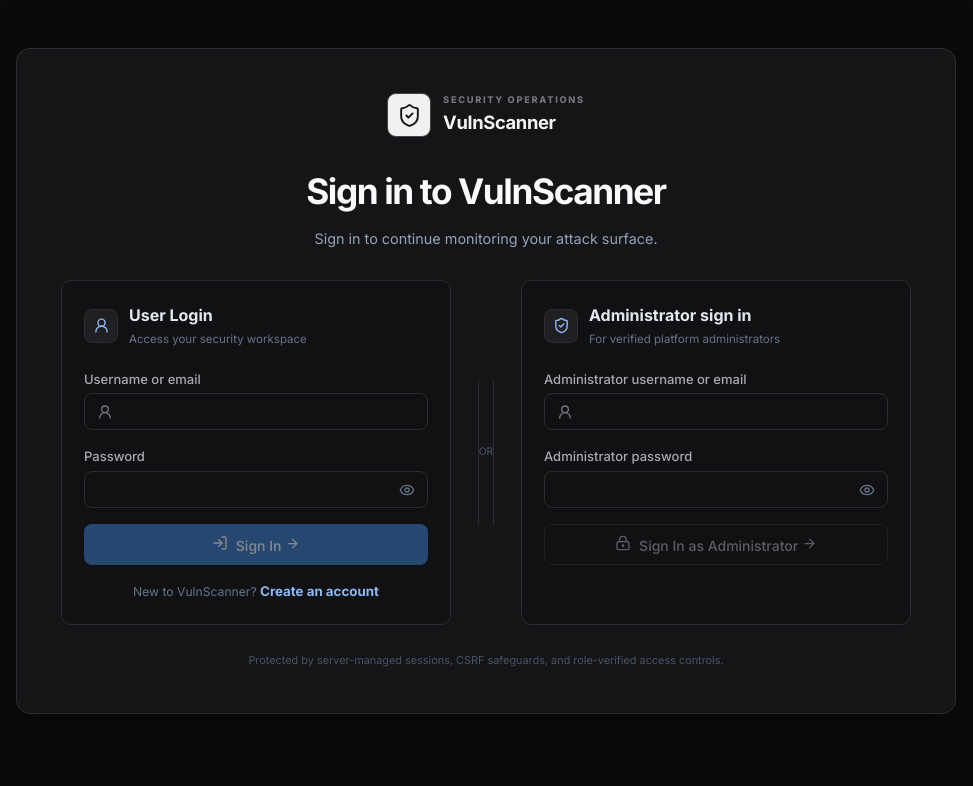
persistent account authentication UI › explains that credentials were not validated when only the login request loses connectivity
In the field labelled "Username or email": [276, 412] box [125,394,427,429], type "alice"
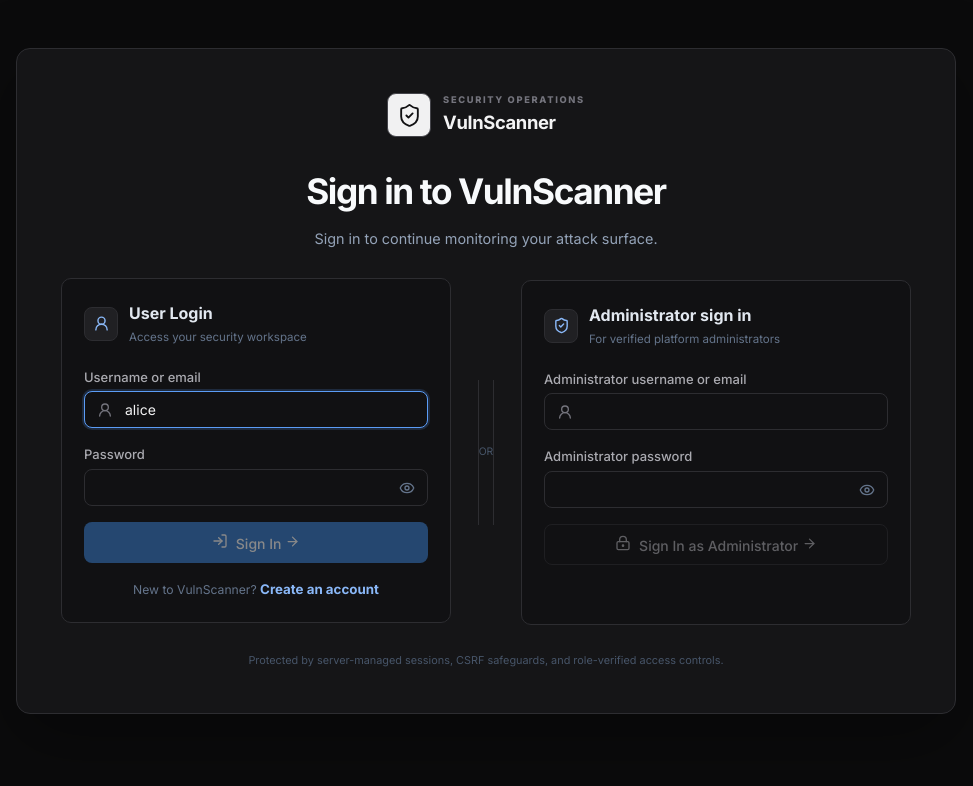
In the password field labelled "Password": [236, 488] box [85,470,387,505], type "StrongPassword!42"
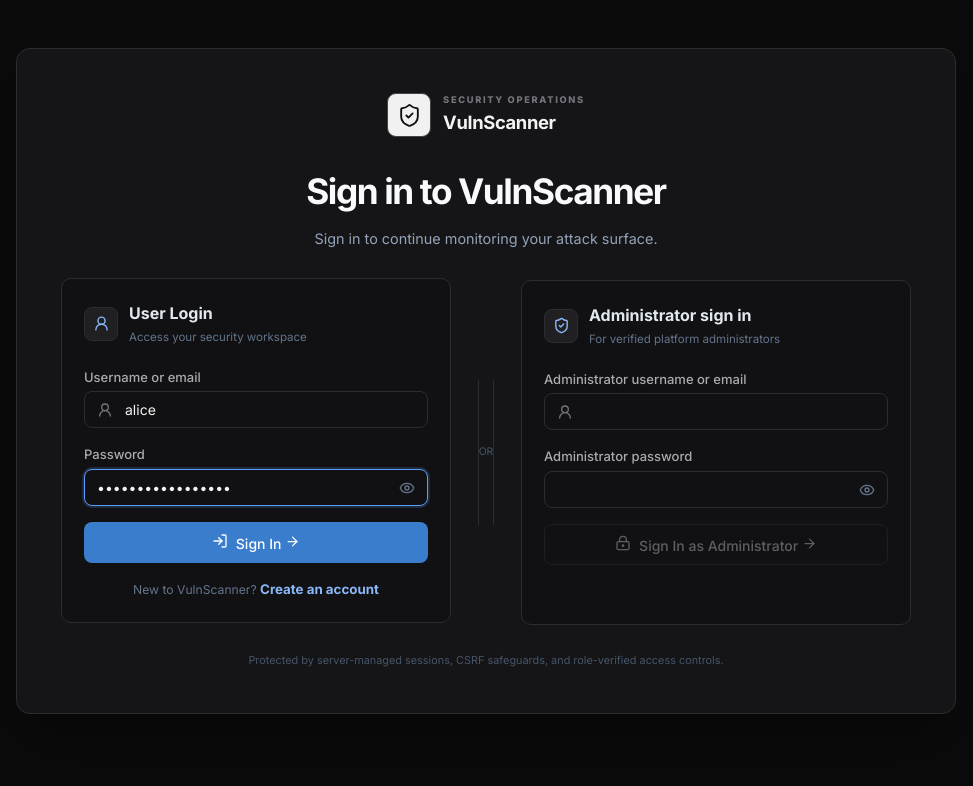
Click the button "Sign In": [256, 543] box [84,522,428,563]
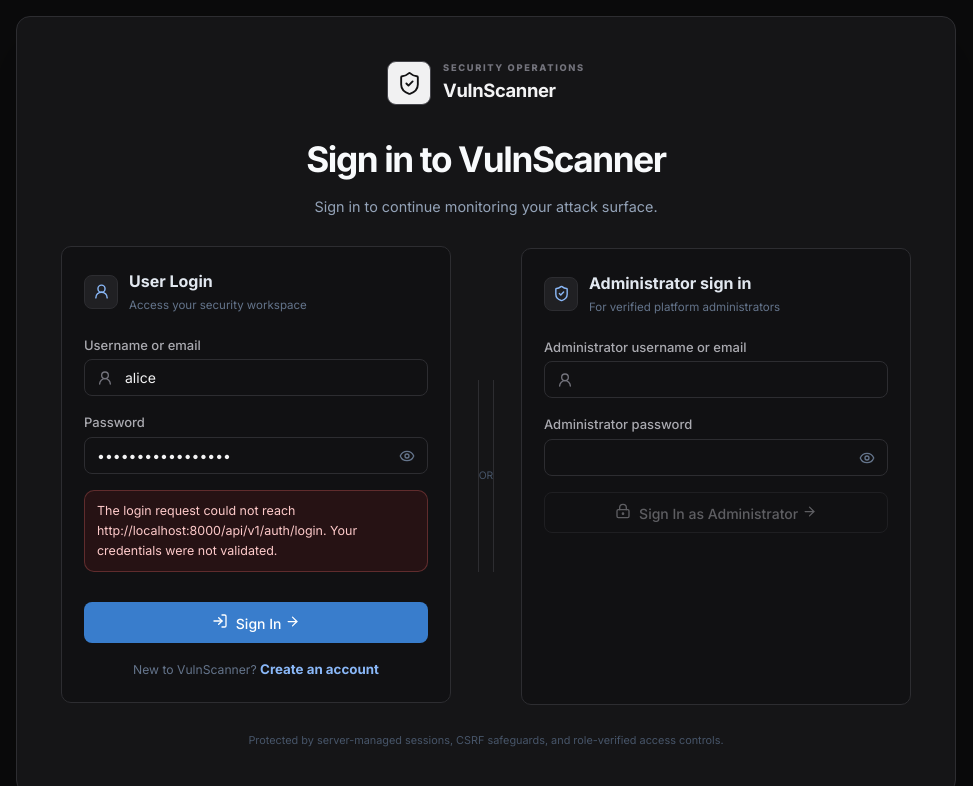
Result: the text "credentials were not validated" is shown at [97,503,357,558]
